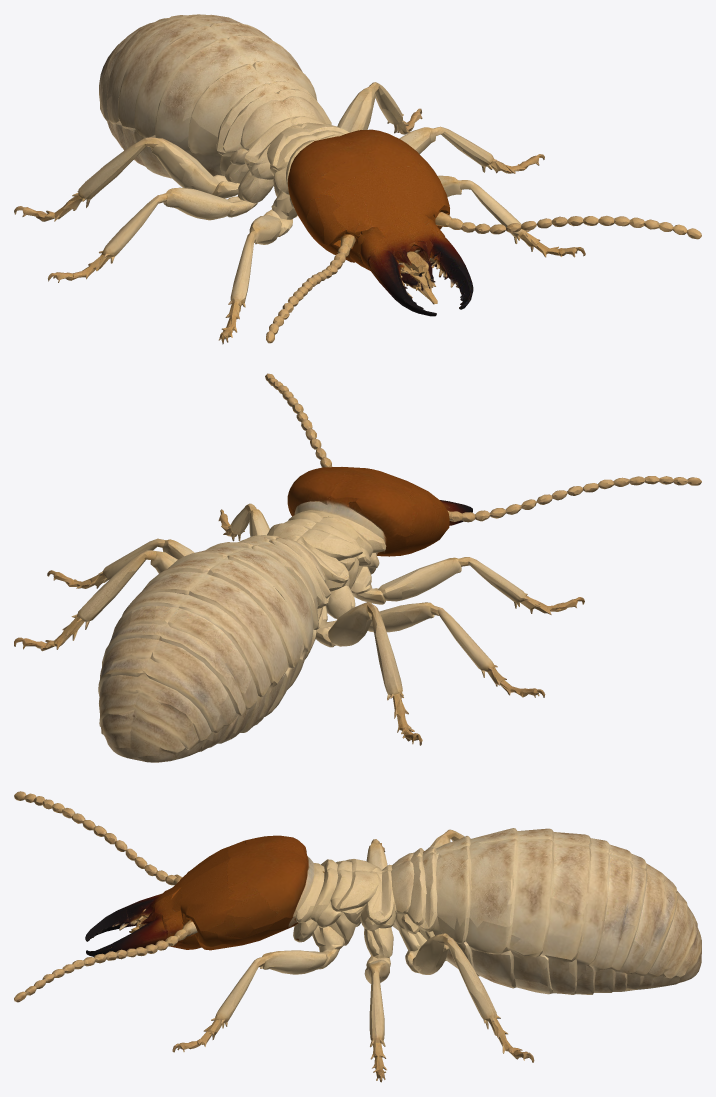
Rendered from mound-building-termite.glb.
The picture shows the model from 3 angles, top to bottom: view 1: azimuth 30°, elevation 25°; view 2: azimuth 150°, elevation 25°; view 3: azimuth 270°, elevation 25°; orthographic projection. The views are drawn at different scales.
Bounding box in the file's own units: 1.54 × 0.4164 × 1.9.
1 material, 1 textured.
